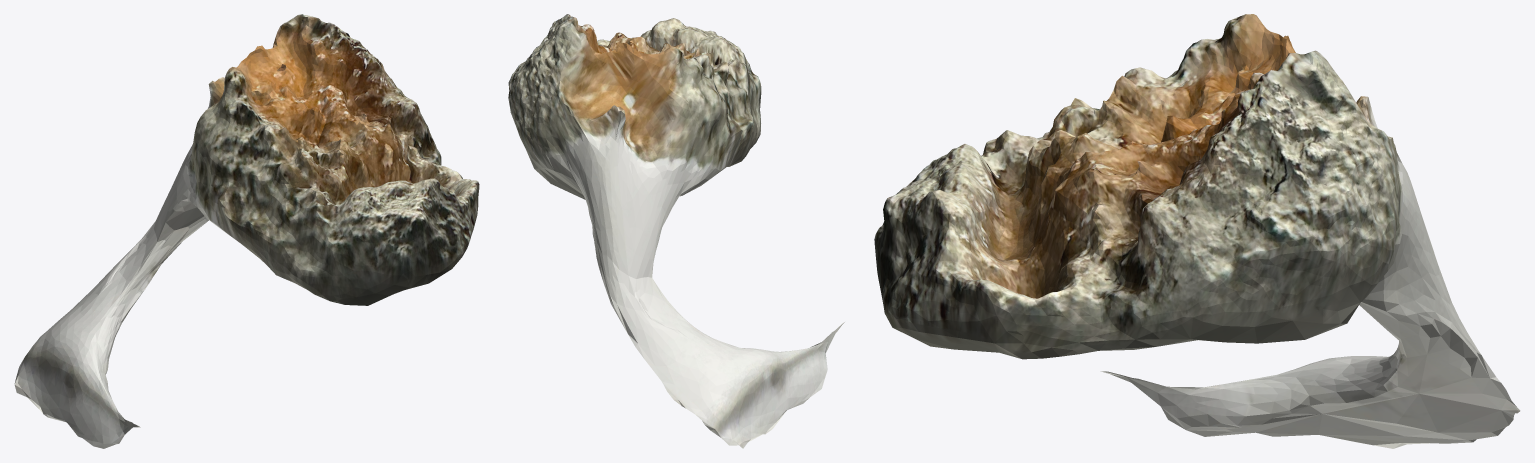
The model's file is argmineral.glb.
3 renders of one model, left to right at view 1: azimuth 30°, elevation 25°; view 2: azimuth 150°, elevation 25°; view 3: azimuth 270°, elevation 25°, orthographic. The views are drawn at different scales.
Size of the model in its own units: 0.4294 by 0.4569 by 0.4622.
Materials: 1 (1 with a texture image).
